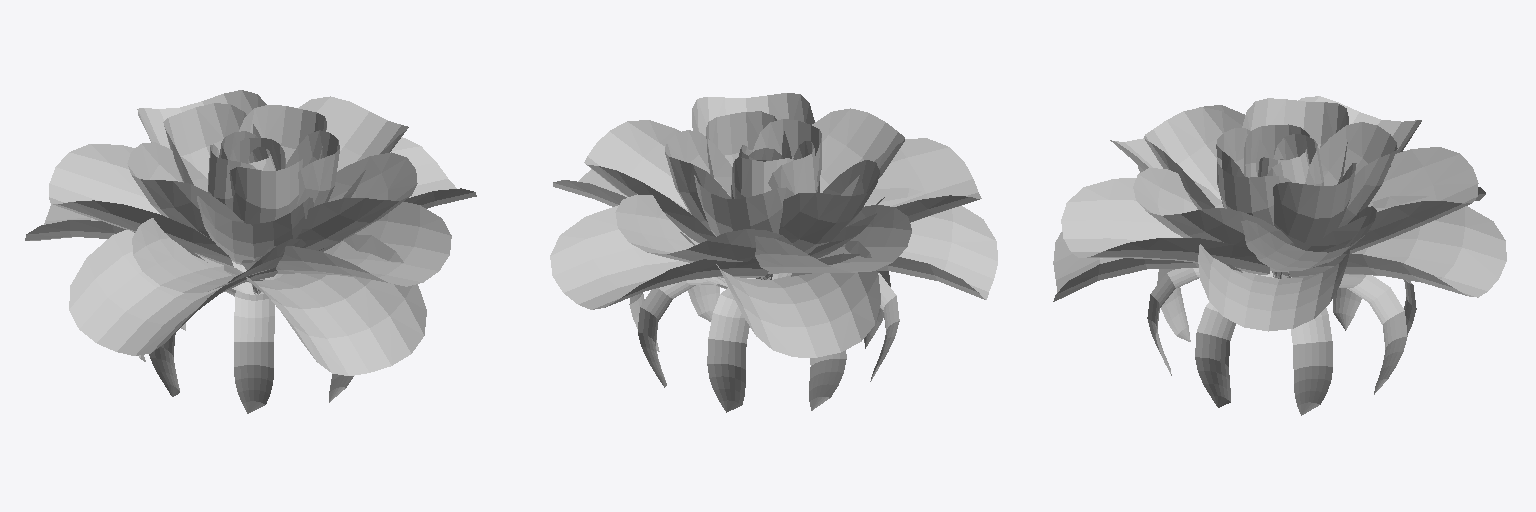
File: FlowerTopModel_03_seq_0042.obj
3 views of the same model, side by side, from view 1: azimuth 30°, elevation 25°; view 2: azimuth 150°, elevation 25°; view 3: azimuth 270°, elevation 25° (orthographic).
Visible parts, largest first — view 1: FlowerTopModel_03; view 2: FlowerTopModel_03; view 3: FlowerTopModel_03.
Boxes of the visible parts, <box> form: FlowerTopModel_03: <box>25,90,476,413</box>; FlowerTopModel_03: <box>550,93,997,412</box>; FlowerTopModel_03: <box>1053,96,1506,415</box>.
Size of the model in its own units: 925 by 499 by 913.